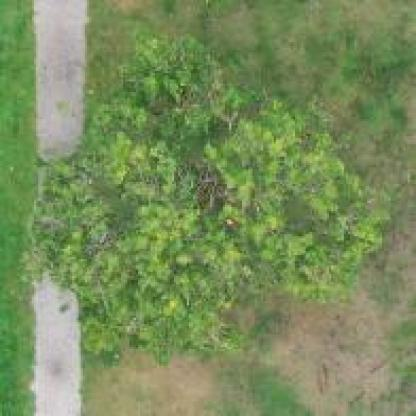Deciduous Tree: (22, 36, 402, 378)
